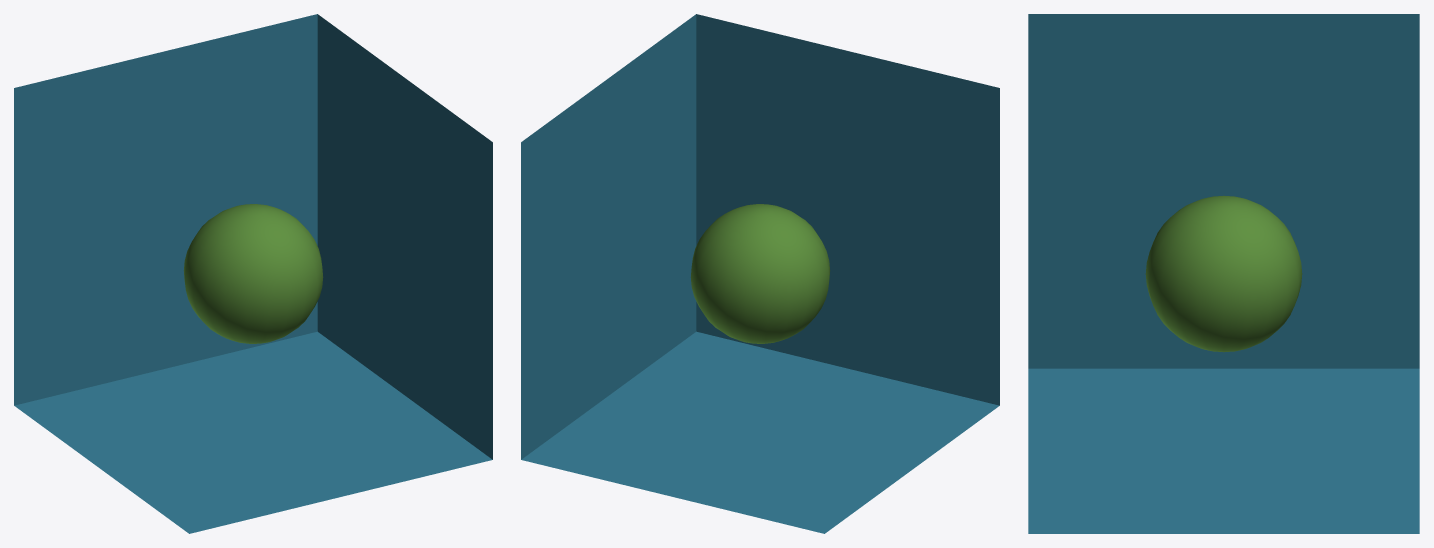
Rendered from backfacePicking.glb.
3 renders of one model, left to right at view 1: azimuth 30°, elevation 25°; view 2: azimuth 150°, elevation 25°; view 3: azimuth 270°, elevation 25°, orthographic. The views are drawn at different scales.
Parts seen in each view (by area): view 1: CubeInverted, sphereTarget; view 2: CubeInverted, sphereTarget; view 3: CubeInverted, sphereTarget.
Boxes of the visible parts, x1,y1,x2,y2 form: CubeInverted: [14, 14, 492, 533]; sphereTarget: [183, 204, 323, 343]; CubeInverted: [521, 14, 999, 533]; sphereTarget: [690, 204, 830, 343]; CubeInverted: [1028, 14, 1419, 533]; sphereTarget: [1145, 195, 1302, 352].
Bounding box in the file's own units: 5 × 5 × 5.
